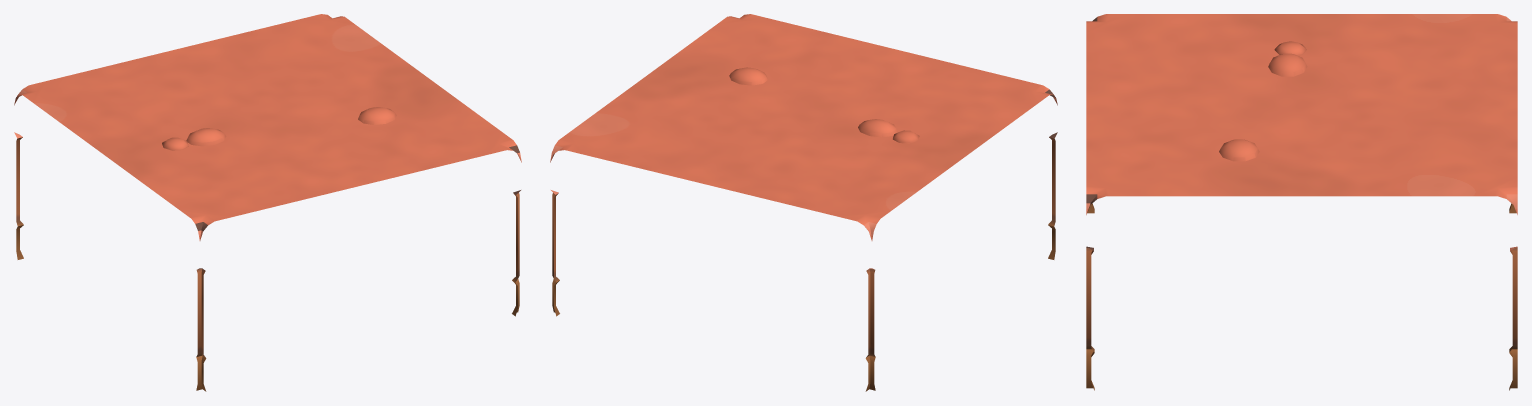
Rendered from wall_cross_low.glb.
3 renders of one model, left to right at view 1: azimuth 30°, elevation 25°; view 2: azimuth 150°, elevation 25°; view 3: azimuth 270°, elevation 25°, orthographic. The views are drawn at different scales.
Visible parts, largest first — view 1: wall_cross_low; view 2: wall_cross_low; view 3: wall_cross_low.
Part boxes in pixels (x1=…): wall_cross_low: x1=14, y1=14, x2=521, y2=391; wall_cross_low: x1=550, y1=14, x2=1057, y2=391; wall_cross_low: x1=1086, y1=14, x2=1517, y2=390.
Bounding box in the file's own units: 1 × 0.5242 × 1.
2 materials, 2 textured.
